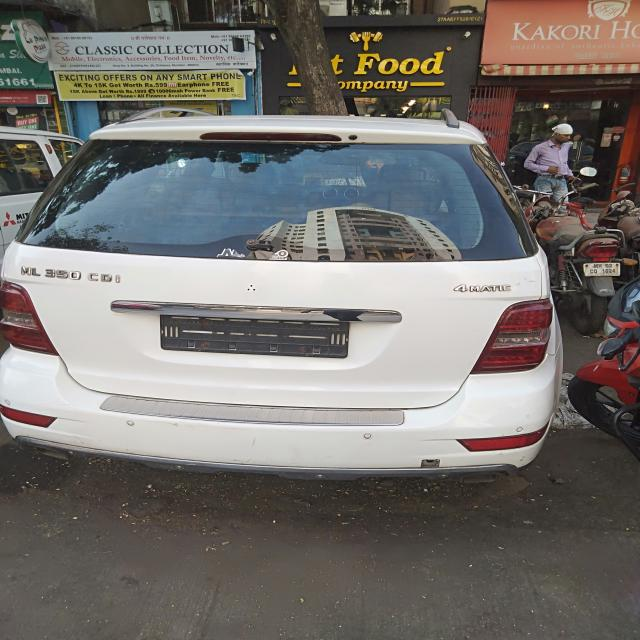Number-Plate: (158, 309, 354, 356)
